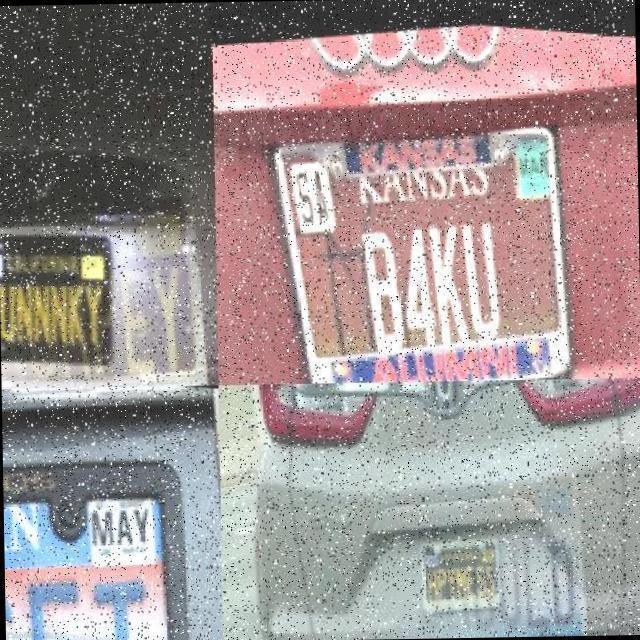License Plate: (276, 119, 574, 382), (1, 418, 222, 640), (0, 212, 130, 372), (420, 521, 516, 611)
